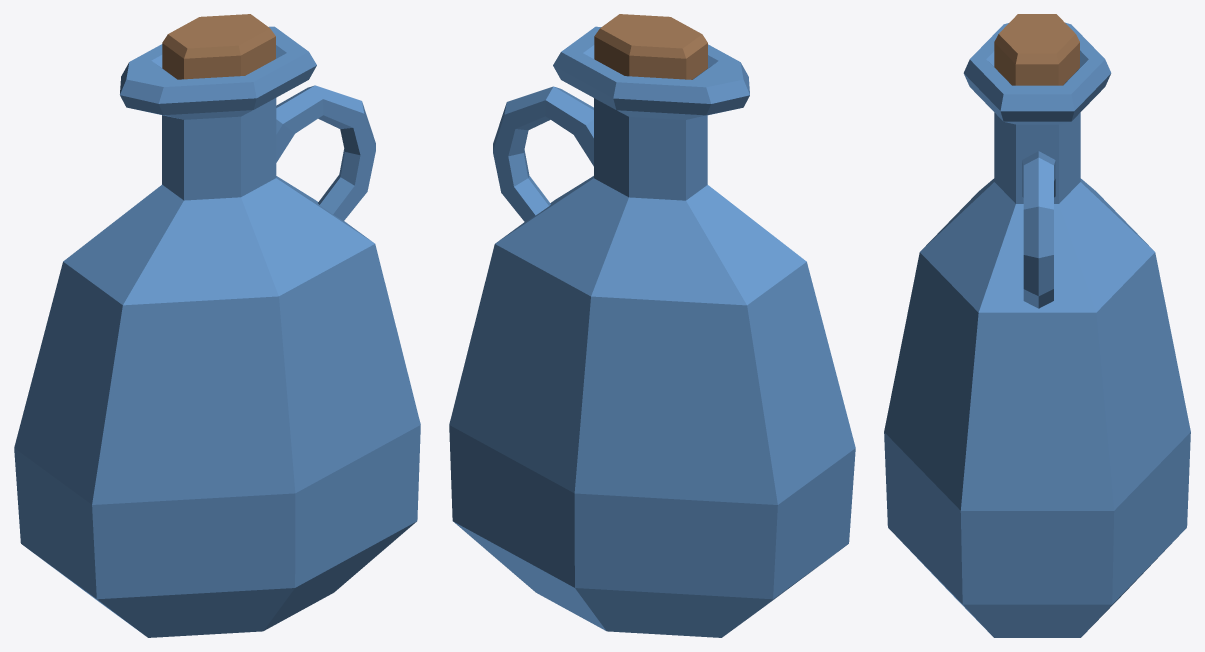
Rendered from Blue_Potion_12.fbx.
3 views of the same model, side by side, from view 1: azimuth 30°, elevation 25°; view 2: azimuth 150°, elevation 25°; view 3: azimuth 270°, elevation 25° (orthographic).
Parts seen in each view (by area): view 1: Blue_Potion_12; view 2: Blue_Potion_12; view 3: Blue_Potion_12.
Part boxes in pixels (box(x1,y1,x2,y2)): Blue_Potion_12: box(14, 14, 420, 637); Blue_Potion_12: box(449, 14, 855, 637); Blue_Potion_12: box(884, 14, 1190, 637).
Bounding box in the file's own units: 23.65 × 39.04 × 19.41.
